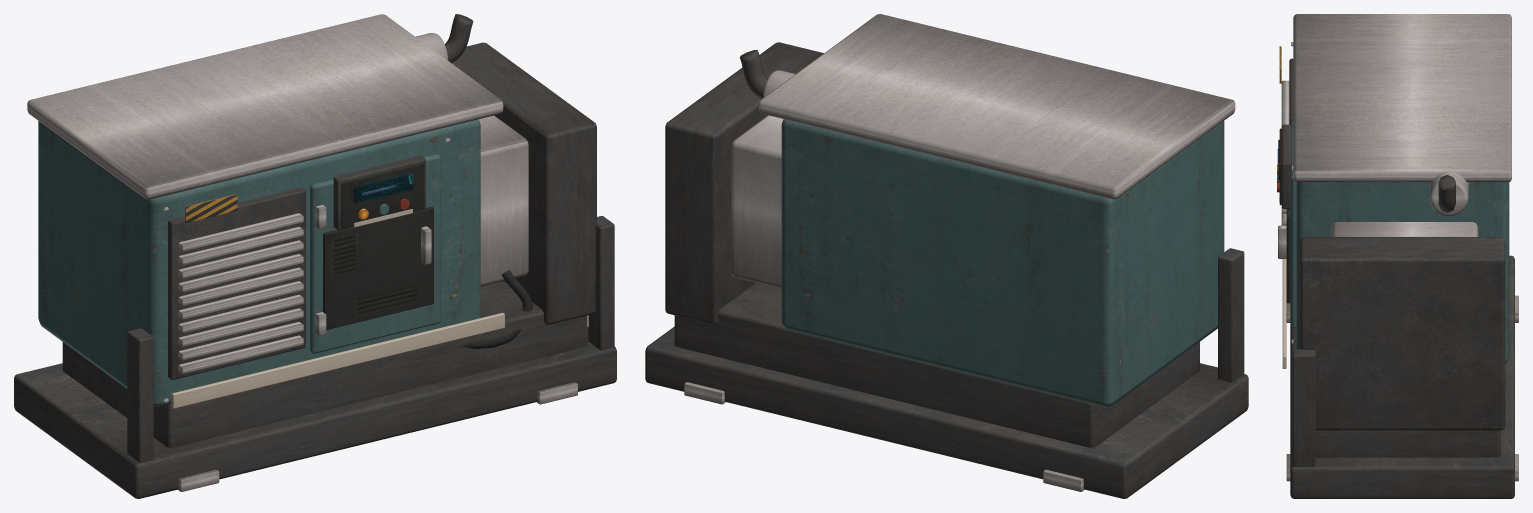
File: SM_FacilityRooms_Generator.fbx
3 renders of one model, left to right at view 1: azimuth 30°, elevation 25°; view 2: azimuth 150°, elevation 25°; view 3: azimuth 270°, elevation 25°, orthographic. The views are drawn at different scales.
Parts seen in each view (by area): view 1: SM_FacilityRooms_Generator; view 2: SM_FacilityRooms_Generator; view 3: SM_FacilityRooms_Generator.
Part boxes in pixels (left/top/right/bottom): SM_FacilityRooms_Generator: left=14, top=14, right=616, bottom=498; SM_FacilityRooms_Generator: left=645, top=14, right=1248, bottom=498; SM_FacilityRooms_Generator: left=1277, top=14, right=1518, bottom=498.
Size of what is drawn, in the model's own units: 250 by 120 by 160.
